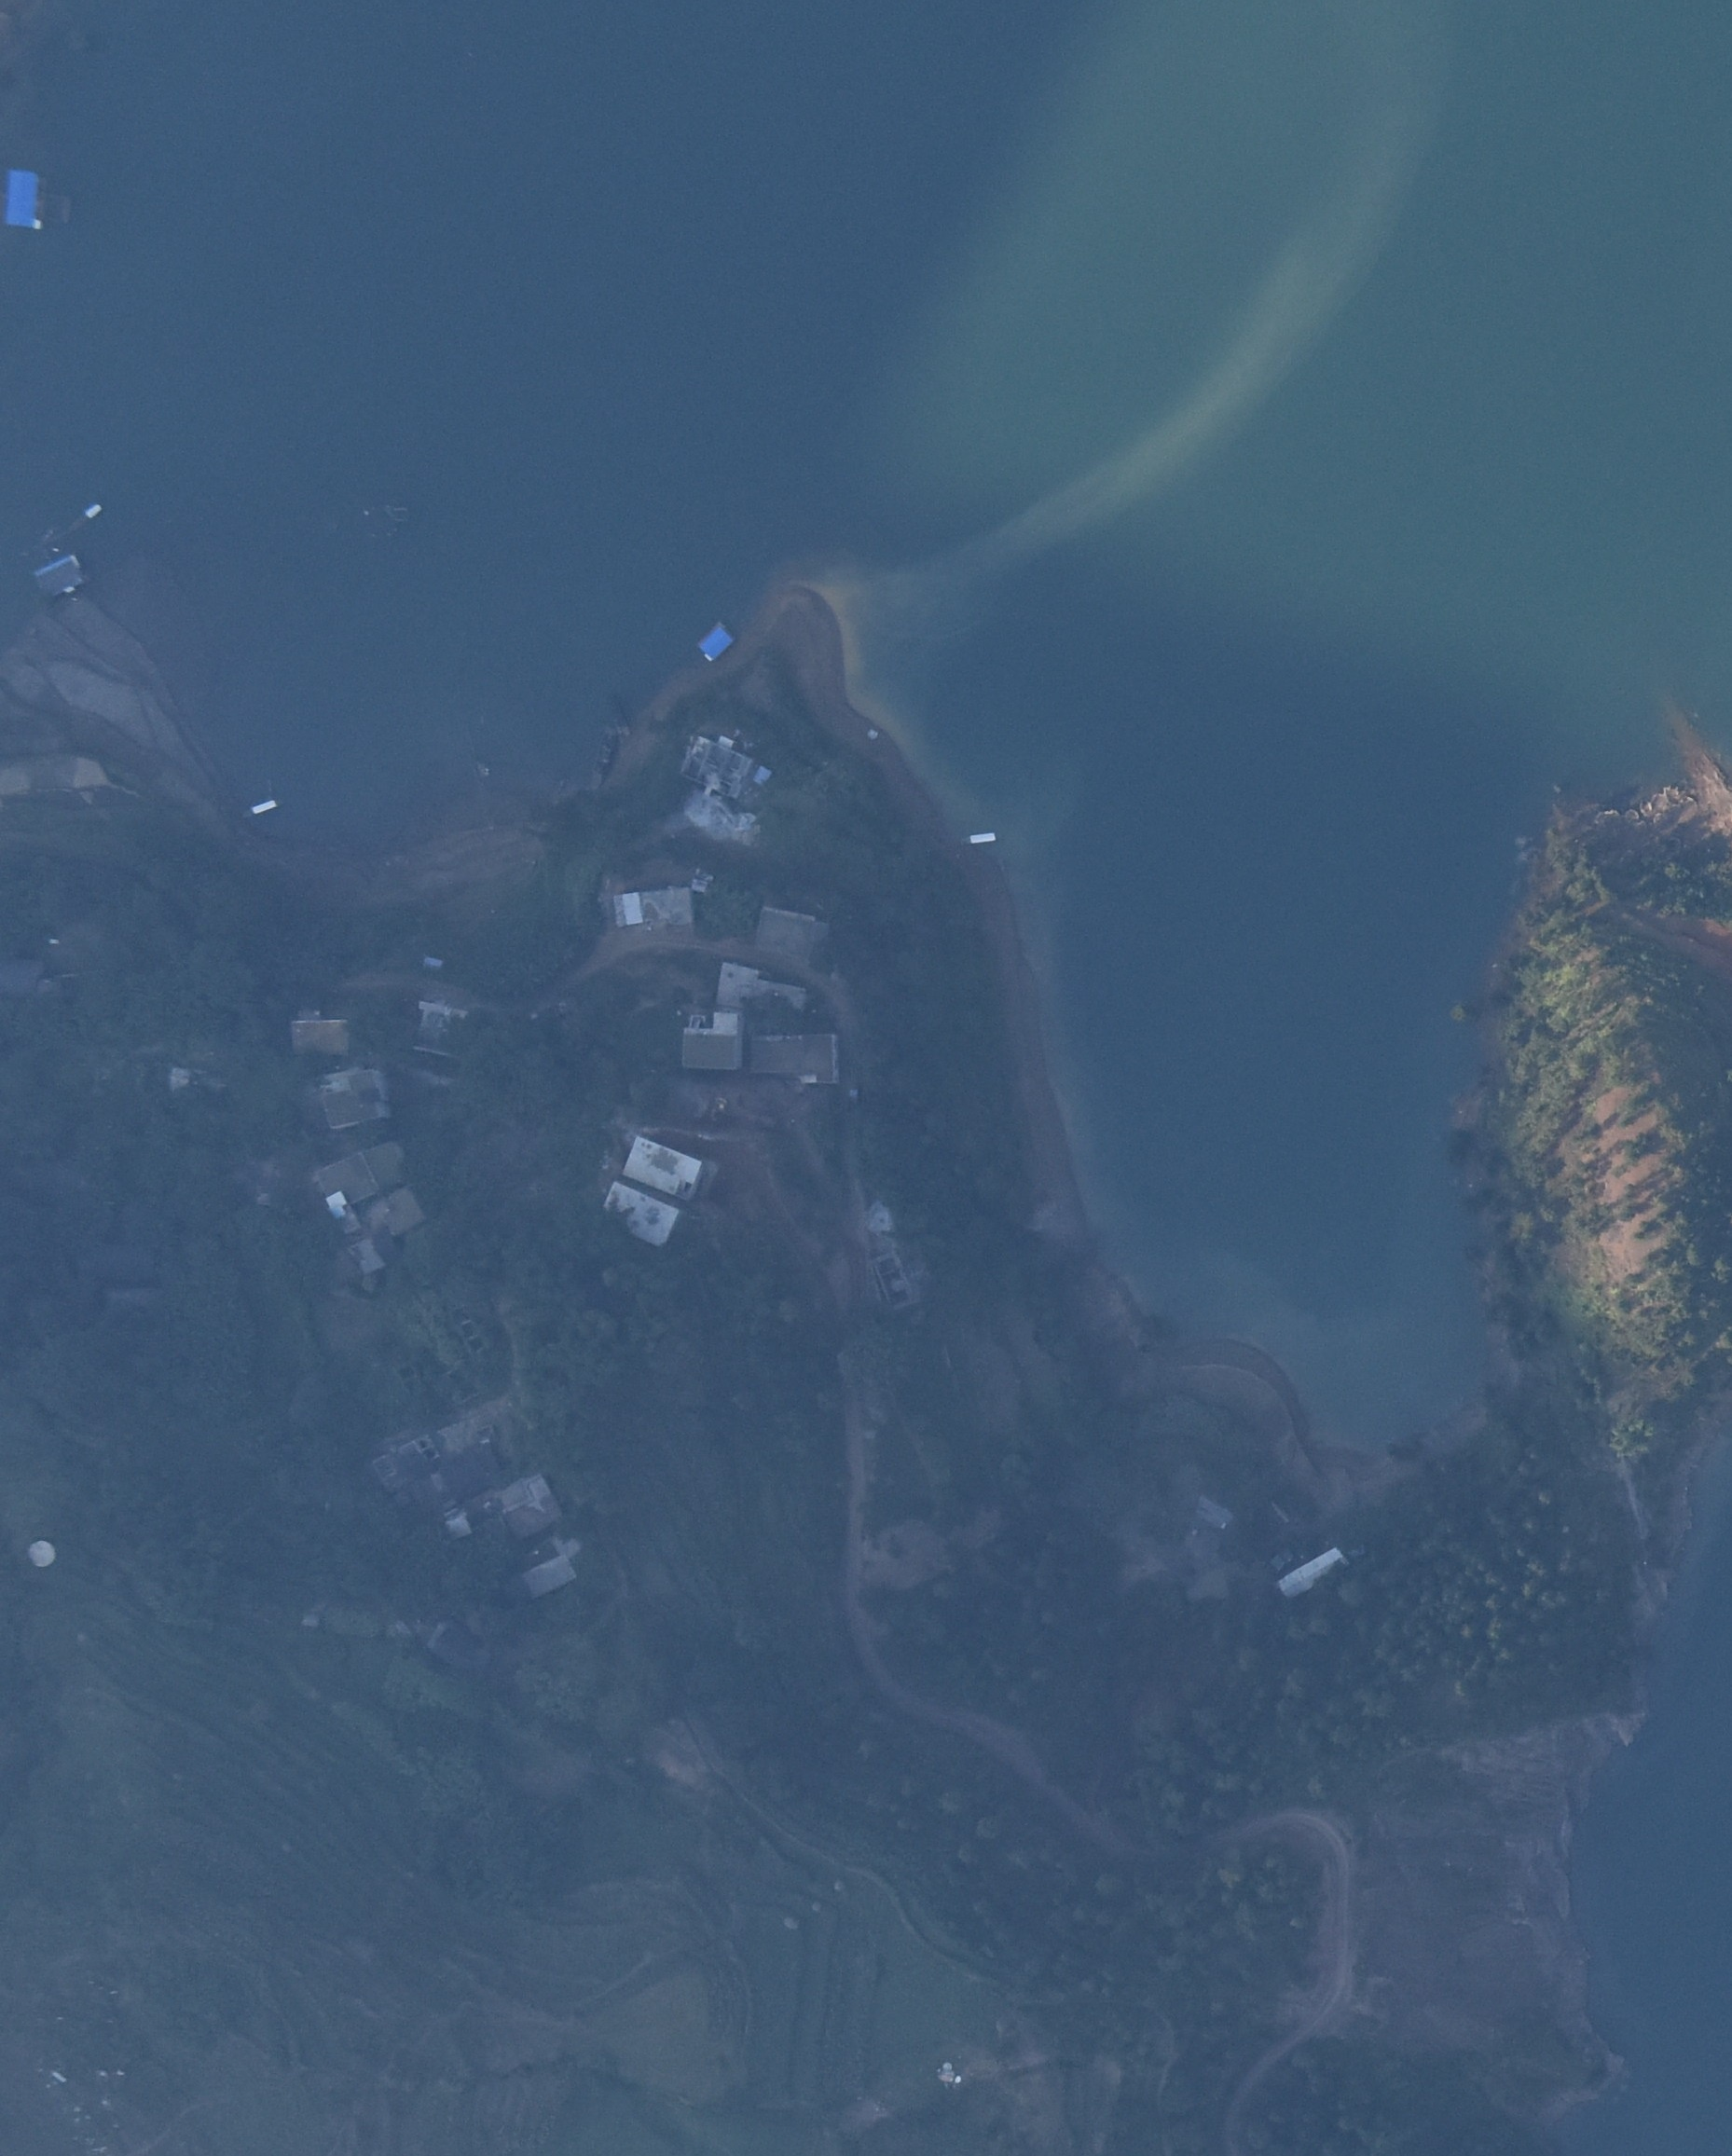building: (680, 963, 841, 1090), (472, 1470, 576, 1603), (316, 1147, 417, 1272), (601, 1136, 707, 1249), (371, 1421, 497, 1515), (677, 735, 763, 797), (313, 1071, 387, 1129), (615, 885, 695, 933), (760, 905, 829, 960), (415, 1000, 474, 1059), (276, 1016, 353, 1057)
prefabricated-house: (1278, 1546, 1350, 1610), (34, 557, 83, 599), (5, 171, 41, 228), (695, 620, 735, 664)
ship: (49, 500, 101, 539), (242, 801, 279, 822), (956, 831, 997, 848)
well: (23, 1541, 57, 1571)
